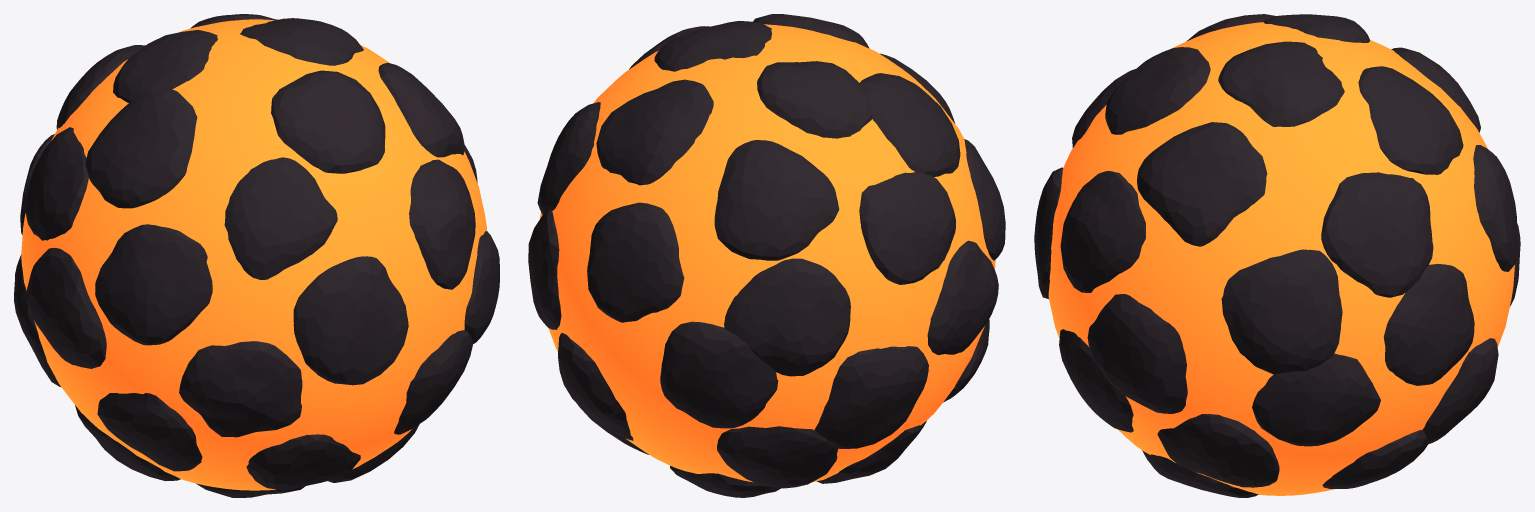
Rendered from bola-api.glb.
3 views of the same model, side by side, from view 1: azimuth 30°, elevation 25°; view 2: azimuth 150°, elevation 25°; view 3: azimuth 270°, elevation 25° (orthographic). The views are drawn at different scales.
Parts seen in each view (by area): view 1: Sphere, Icosphere.015, Icosphere.012, Icosphere.007, Icosphere.004, Icosphere.020, Icosphere.002, Icosphere.010, Icosphere.017, Icosphere.025, Icosphere.009, Icosphere.001 (+10 smaller); view 2: Sphere, Icosphere.006, Icosphere.014, Icosphere.011, Icosphere.019, Icosphere.009, Icosphere.022, Icosphere.003, Icosphere.001, Icosphere.004, Icosphere.027, Icosphere.017 (+10 smaller); view 3: Sphere, Icosphere.013, Icosphere.005, Icosphere.008, Icosphere.018, Icosphere.021, Icosphere.016, Icosphere.010, Icosphere, Icosphere.003, Icosphere.026, Icosphere.002 (+10 smaller).
Part boxes in pixels (<box>): Sphere: <box>21,19,486,490</box>; Icosphere.015: <box>293,256,408,385</box>; Icosphere.012: <box>95,224,212,345</box>; Icosphere.007: <box>224,157,337,279</box>; Icosphere.004: <box>85,88,197,208</box>; Icosphere.020: <box>179,341,302,437</box>; Icosphere.002: <box>271,70,385,173</box>; Icosphere.010: <box>409,159,475,289</box>; Icosphere.017: <box>27,247,106,368</box>; Icosphere.025: <box>97,393,202,471</box>; Icosphere.009: <box>25,127,88,240</box>; Icosphere.001: <box>113,30,217,102</box>; Sphere: <box>539,24,995,482</box>; Icosphere.006: <box>714,140,839,260</box>; Icosphere.014: <box>724,258,850,376</box>; Icosphere.011: <box>587,202,684,322</box>; Icosphere.019: <box>660,321,778,428</box>; Icosphere.009: <box>859,172,955,284</box>; Icosphere.022: <box>815,346,928,448</box>; Icosphere.003: <box>596,79,713,185</box>; Icosphere.001: <box>757,61,872,138</box>; Icosphere.004: <box>860,73,960,176</box>; Icosphere.027: <box>717,426,838,488</box>; Icosphere.017: <box>927,240,998,354</box>; Sphere: <box>1048,22,1514,495</box>; Icosphere.013: <box>1221,249,1342,374</box>; Icosphere.005: <box>1137,122,1267,246</box>; Icosphere.008: <box>1321,172,1433,297</box>; Icosphere.018: <box>1087,294,1187,413</box>; Icosphere.021: <box>1252,353,1380,446</box>; Icosphere.016: <box>1383,264,1474,385</box>; Icosphere.010: <box>1060,171,1145,292</box>; Icosphere: <box>1218,41,1344,126</box>; Icosphere.003: <box>1358,66,1463,174</box>; Icosphere.026: <box>1157,414,1279,487</box>; Icosphere.002: <box>1105,47,1210,134</box>.
Bounding box in the file's own units: 4.31 × 4.26 × 4.24.
